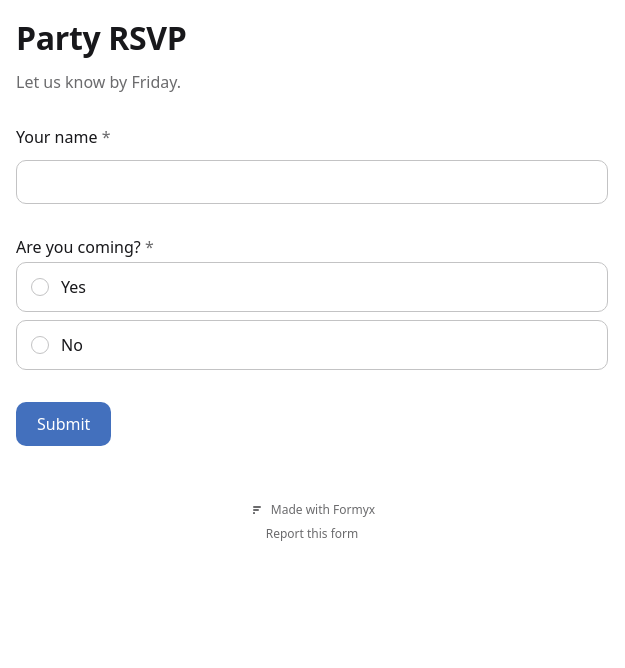
Test case: PublicFormPage › asks follow-up questions only when they apply
The image size is (625, 668).
Expected: the heading "Party RSVP" is shown, top-left (16, 16), bottom-right (186, 59)
Expected: the field labelled "How many guests" is not shown
Click the radio button labelled "Yes": (40, 287) top-left (16, 262), bottom-right (608, 312)
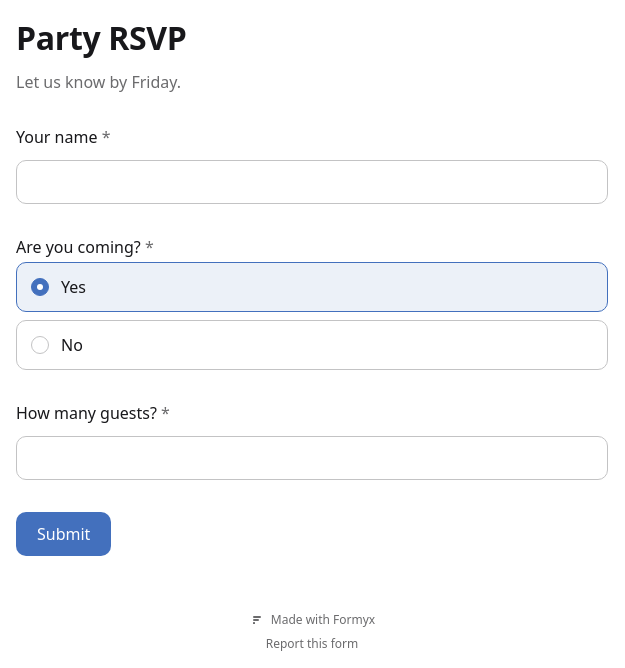
Expected: the field labelled "How many guests? *" is shown, top-left (16, 436), bottom-right (608, 480)
Click the radio button labelled "No": (40, 345) top-left (16, 320), bottom-right (608, 370)
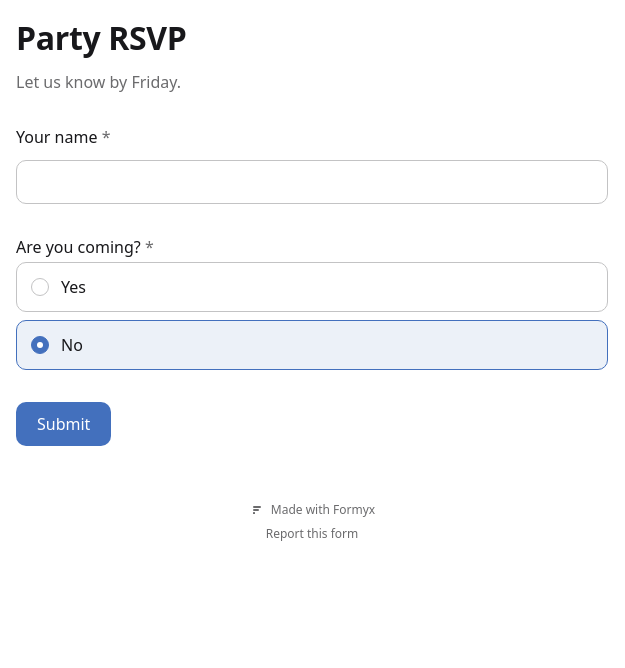
Expected: the label "How many guests" is gone
